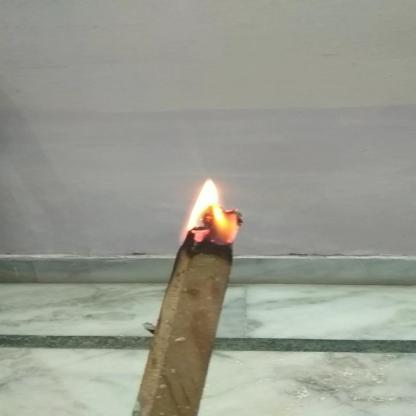fire: (170, 174, 249, 249)
